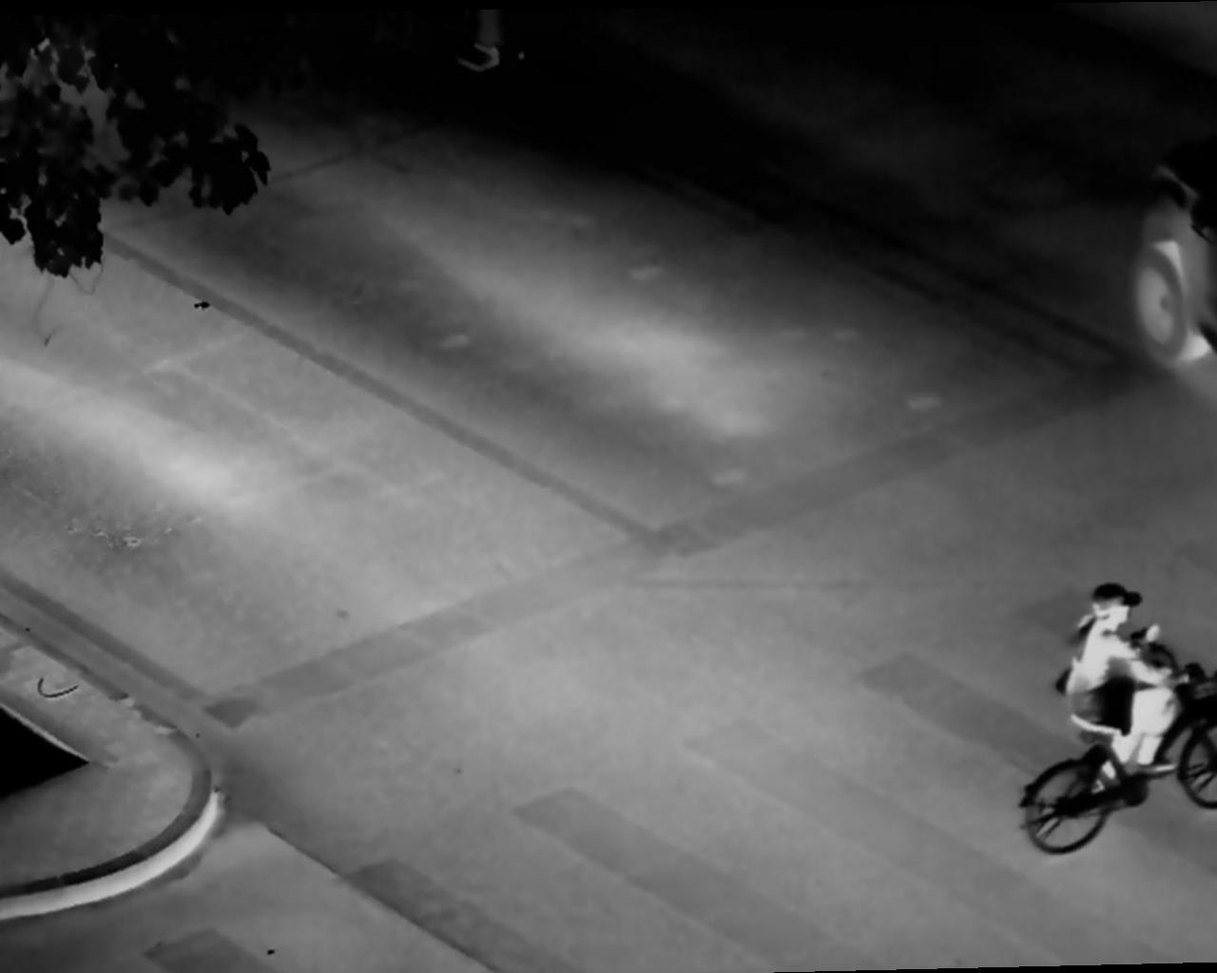person: (1067, 582, 1196, 804)
